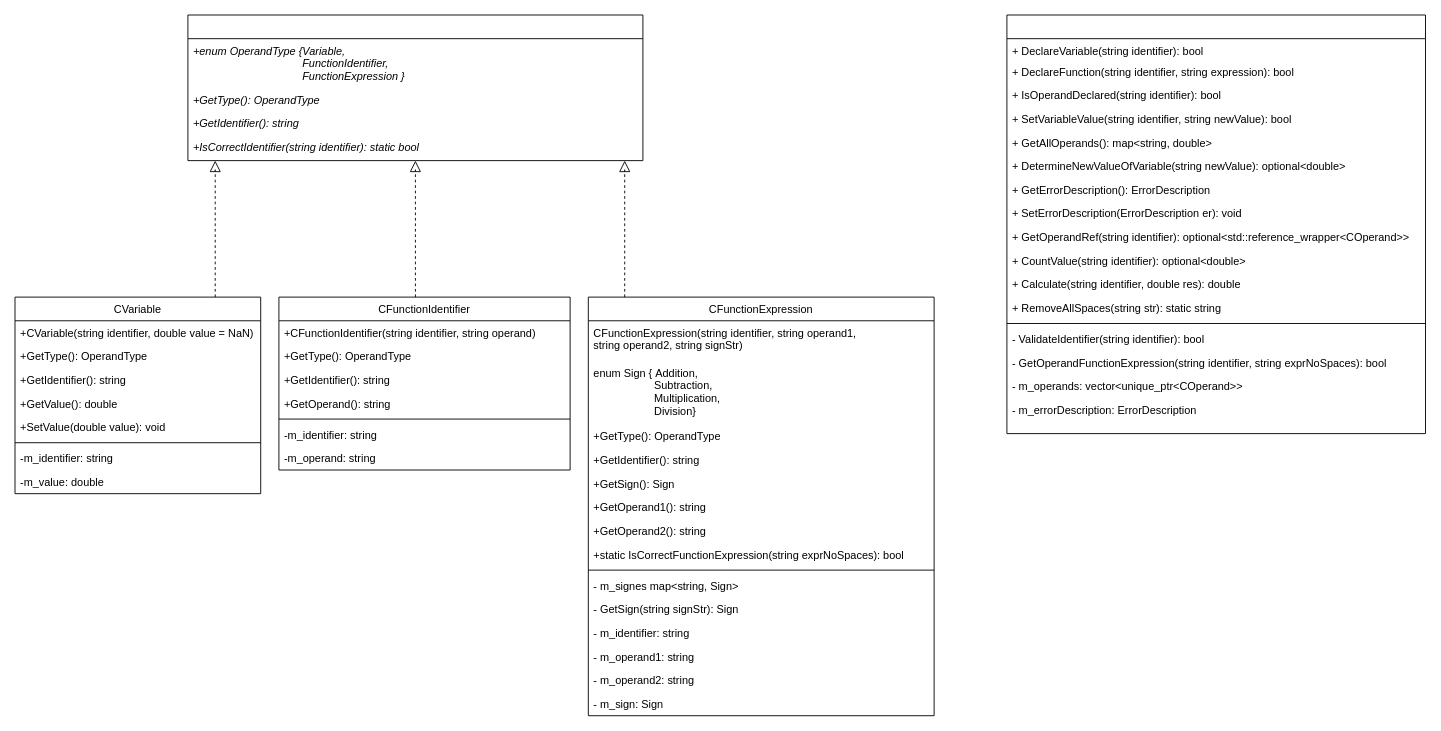
Some shapes in this 1441 by 731 pixel diagram are drawn without their labels. The shapes that lost their labels are listed below. From the top down, each one's box as (x1, y1, x2, y2) in pixels, then its label:
(187, 14, 643, 161): COperand
(1006, 14, 1426, 434): CCalculator
